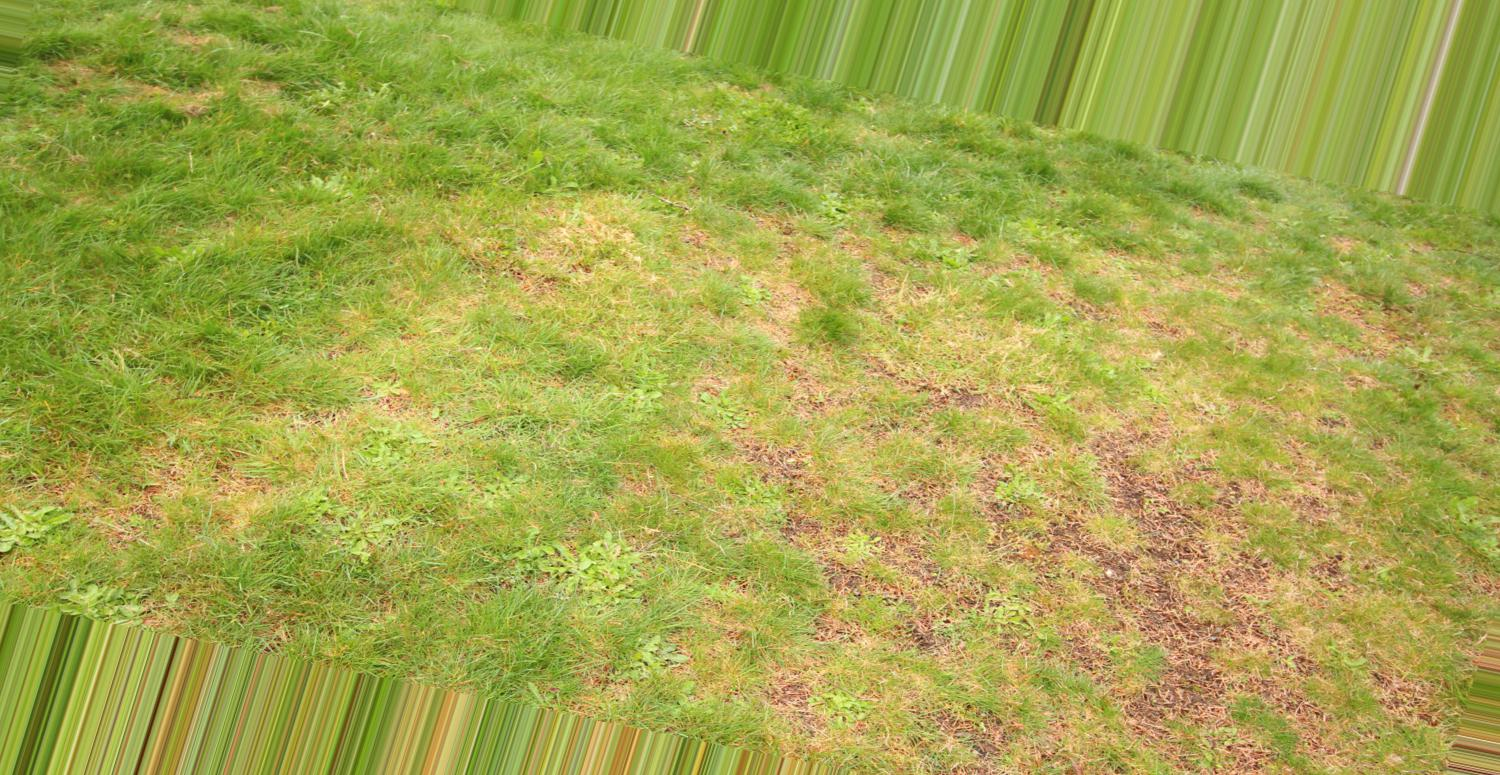patch: (796, 330, 1302, 725)
